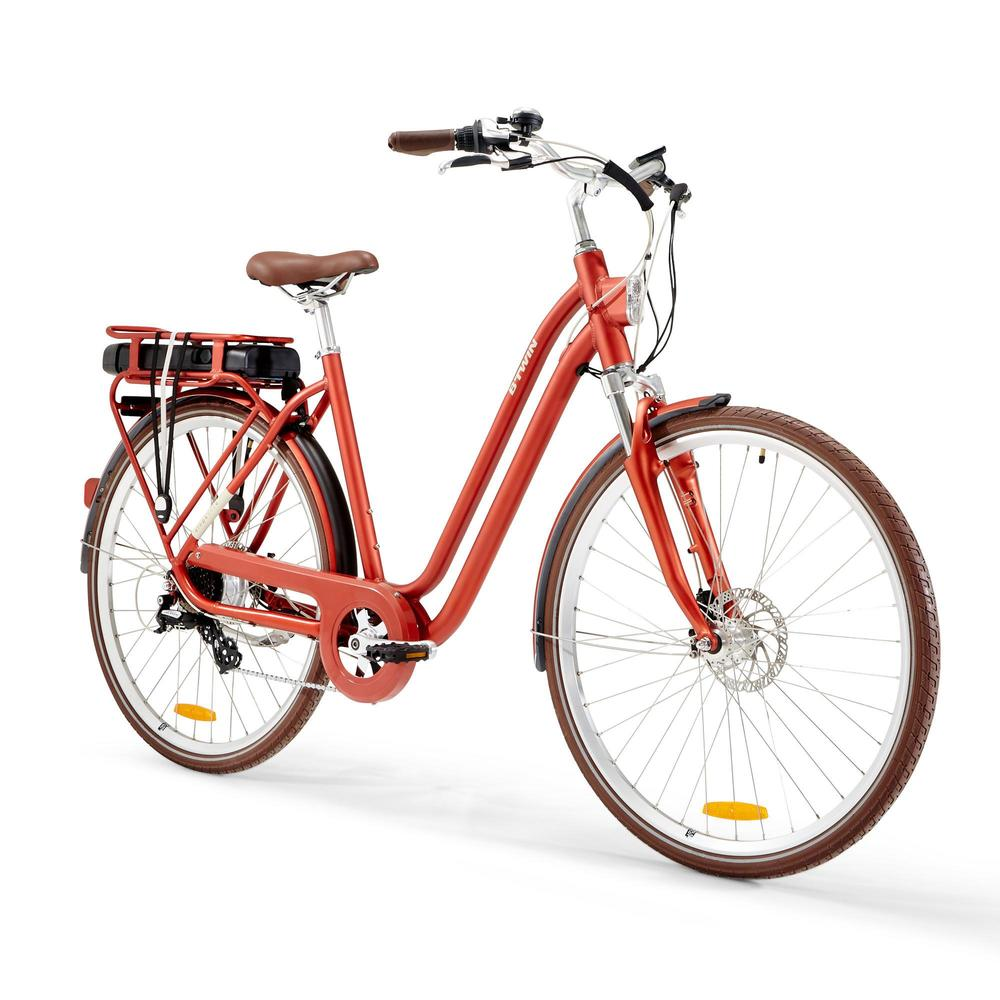UrbanBike: (78, 95, 953, 874)
